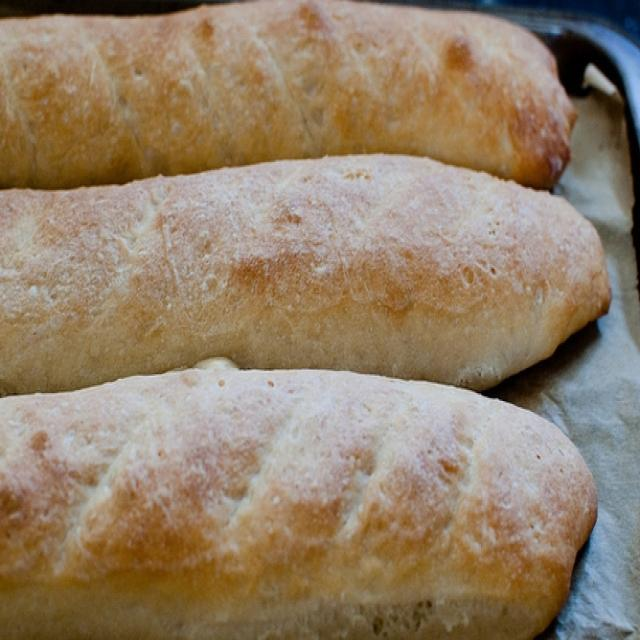Bread: (7, 6, 591, 640)
